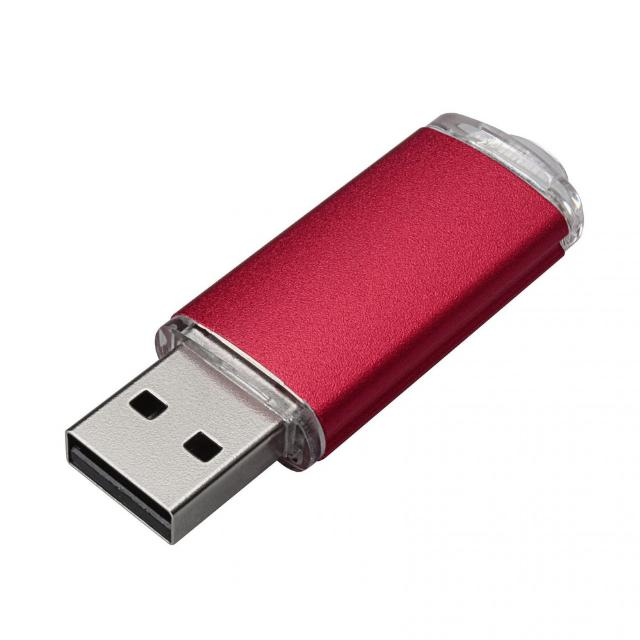USB-Flash-Drive: (64, 113, 587, 546)
